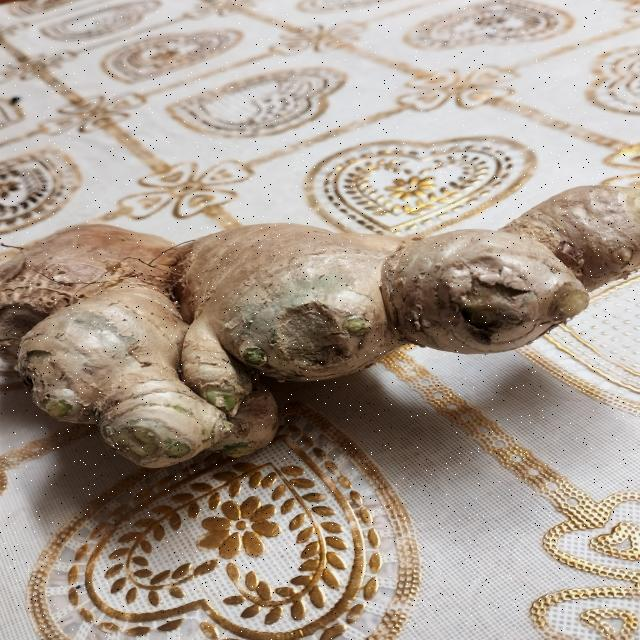ginger: (4, 160, 638, 458)
